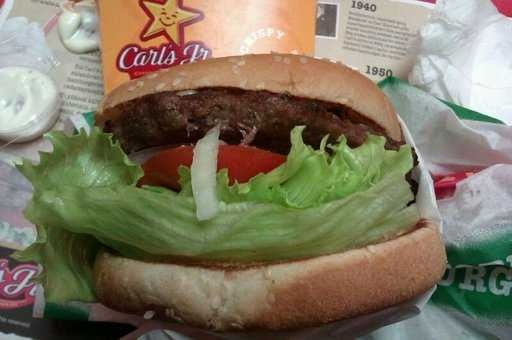hamburger: (44, 52, 449, 304)
